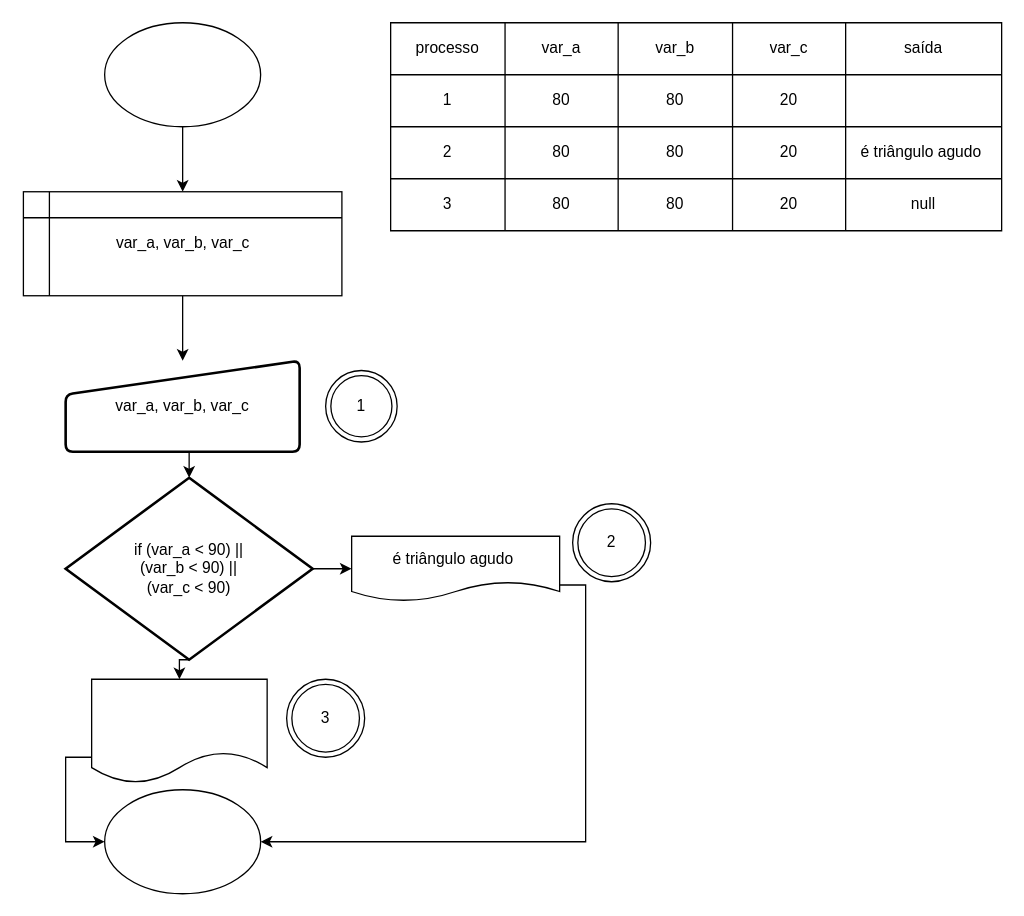
Some shapes in this 1024 by 916 pixel diagram are drawn without their labels. Here are the shapes that lost their labels. From the top down, the box of each, then its label:
(103, 21, 261, 127): início
(90, 678, 267, 783): não é triângulo agudo
(103, 788, 261, 894): fim
